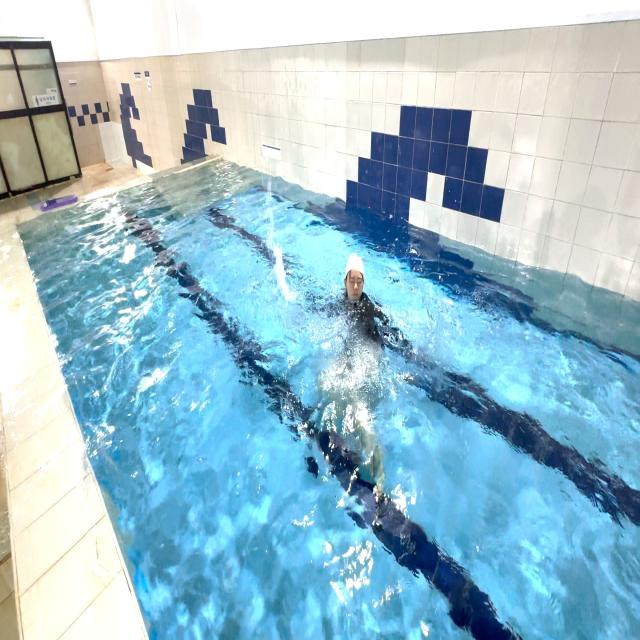Drowning: (256, 235, 458, 466)
